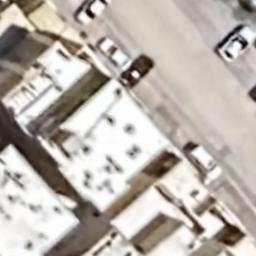SUV: (217, 24, 256, 64)
sedan: (118, 52, 154, 90), (74, 0, 118, 28), (96, 36, 130, 70)
van: (186, 141, 223, 183)
